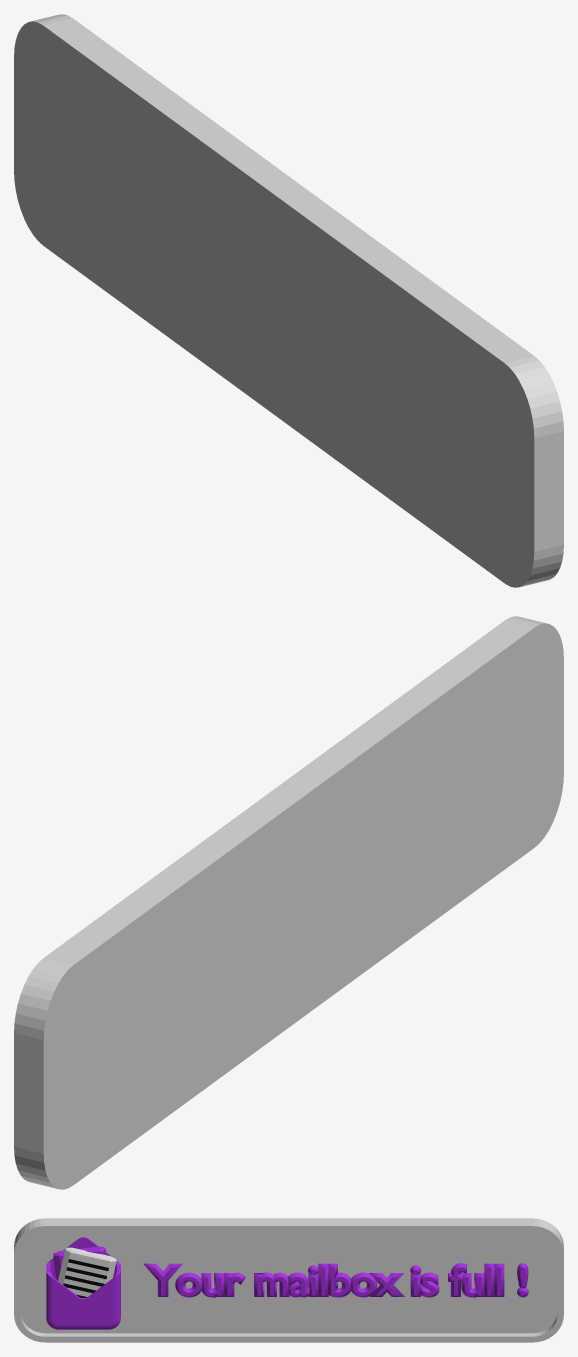
Rendered from MailFullNotification.fbx.
3 views of the same model, one above another, from view 1: azimuth 30°, elevation 25°; view 2: azimuth 150°, elevation 25°; view 3: azimuth 270°, elevation 25° (orthographic). The views are drawn at different scales.
Visible parts, largest first — view 1: MailNotificationBox; view 2: MailNotificationBox; view 3: MailNotificationBox, MailWarning, MailBoxIcon.
Boxes of the visible parts, bbox=[...] form: MailNotificationBox: bbox=[14, 14, 563, 587]; MailNotificationBox: bbox=[14, 616, 563, 1189]; MailNotificationBox: bbox=[14, 1218, 563, 1342]; MailWarning: bbox=[143, 1263, 528, 1298]; MailBoxIcon: bbox=[46, 1237, 120, 1329].
Size of the model in its own units: 83.32 by 307 by 1316.
